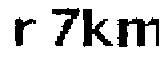7: (48, 6, 80, 47)
k: (81, 6, 113, 49)
m: (115, 16, 160, 49)
r: (10, 18, 42, 46)
